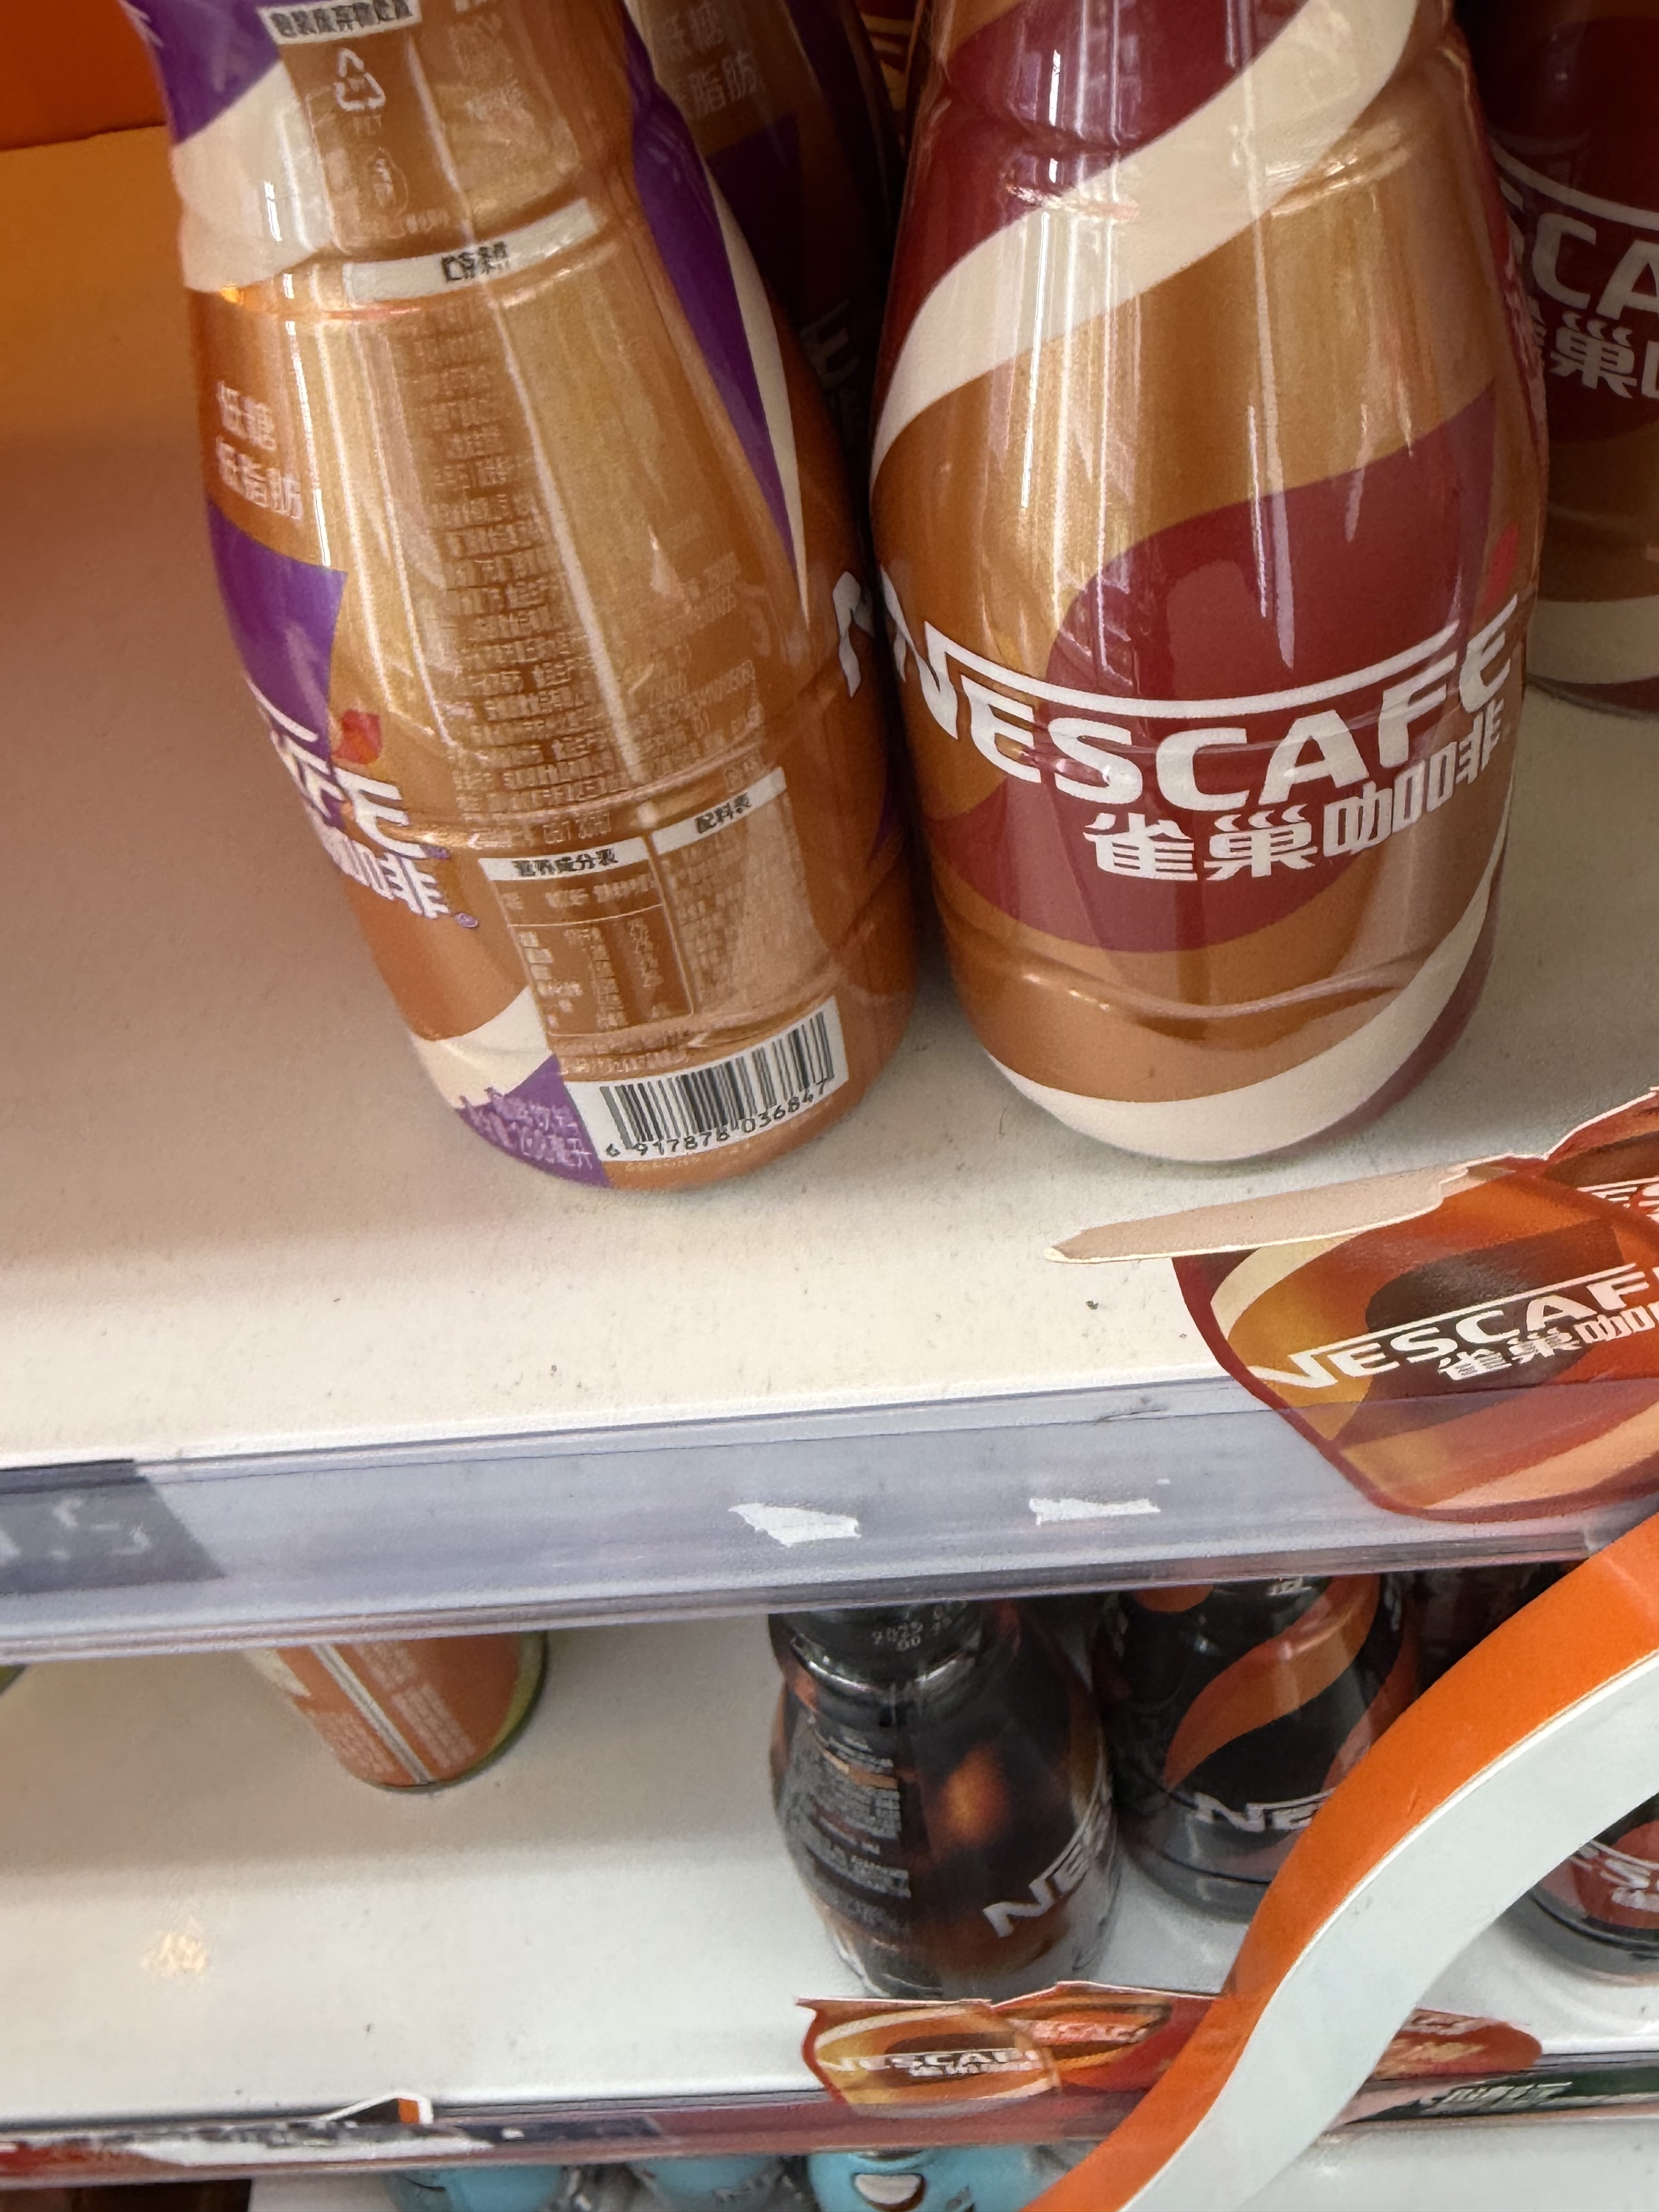bar: (596, 996, 847, 1157)
